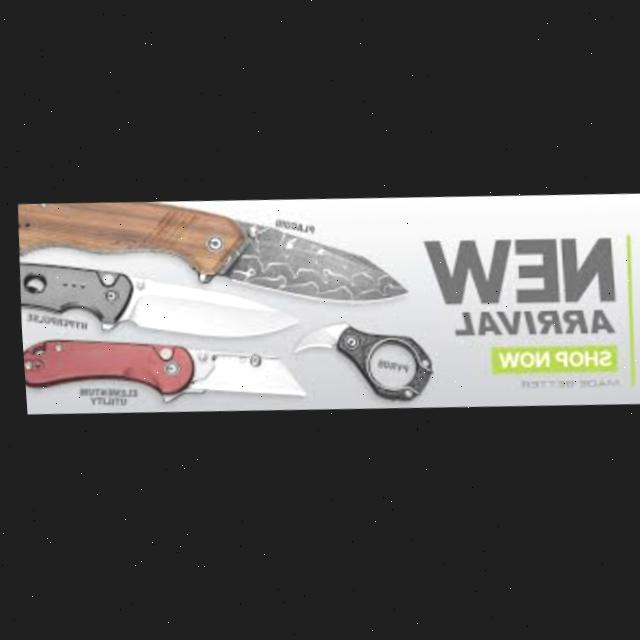knife: (11, 189, 408, 320), (14, 247, 297, 350), (18, 328, 304, 414)
